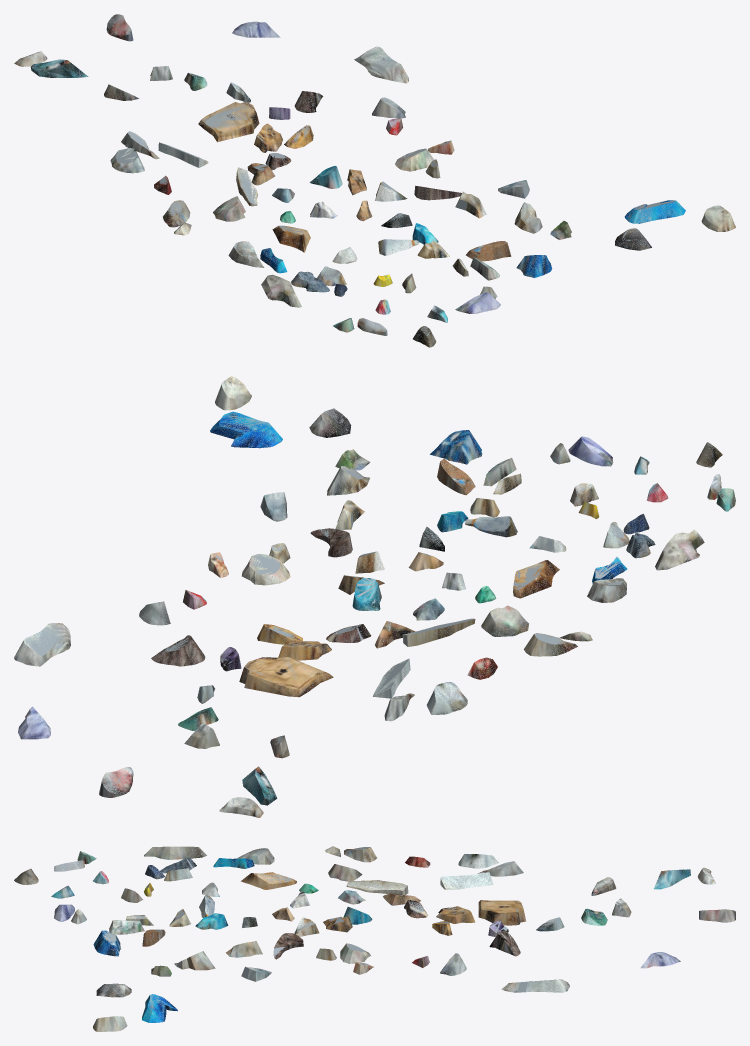
File: Waste.fbx
The picture shows the model from 3 angles, top to bottom: view 1: azimuth 30°, elevation 25°; view 2: azimuth 150°, elevation 25°; view 3: azimuth 270°, elevation 25°; orthographic projection. The views are drawn at different scales.
Parts seen in each view (by area): view 1: Group1; view 2: Group1; view 3: Group1.
Part boxes in pixels (x1,y1,x2,y2): Group1: (14,14,735,347); Group1: (14,376,735,817); Group1: (14,846,735,1031).
Size of the model in its own units: 2.85 by 0.1161 by 4.72.
